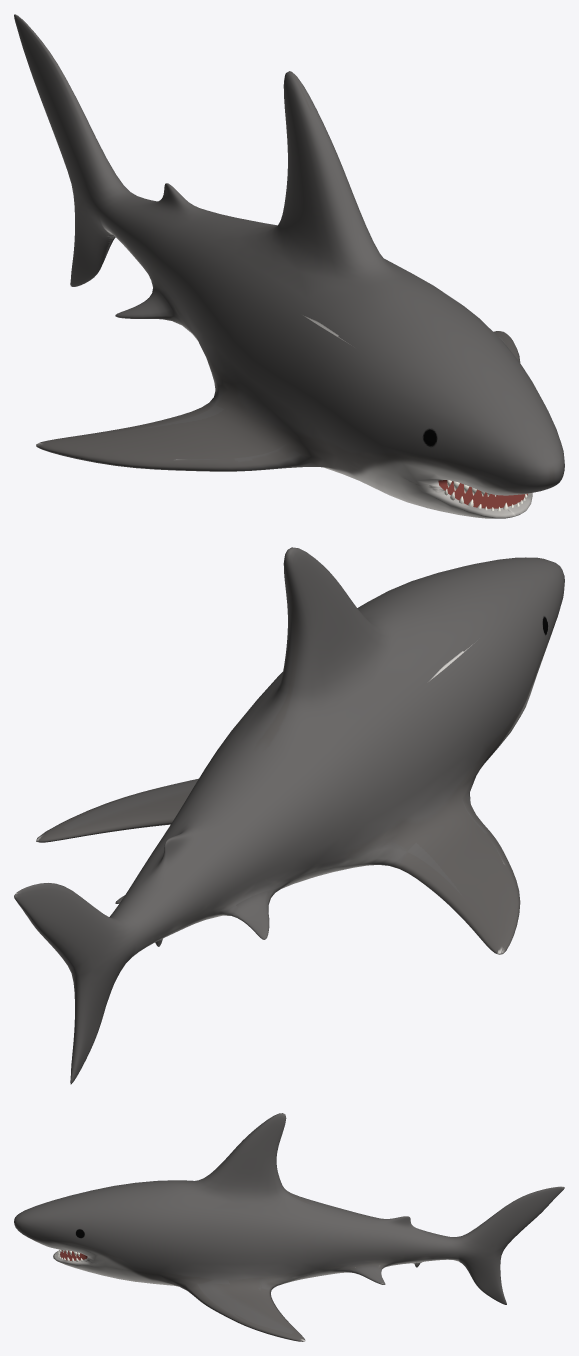
Rendered from predator_shayu.glb.
The picture shows the model from 3 angles, top to bottom: view 1: azimuth 30°, elevation 25°; view 2: azimuth 150°, elevation 25°; view 3: azimuth 270°, elevation 25°; orthographic projection. The views are drawn at different scales.
Visible parts, largest first — view 1: predator_shayu; view 2: predator_shayu; view 3: predator_shayu.
Part boxes in pixels (x1=…): predator_shayu: x1=14, y1=14, x2=564, y2=518; predator_shayu: x1=14, y1=547, x2=564, y2=1084; predator_shayu: x1=14, y1=1113, x2=564, y2=1341.
Size of the model in its own units: 2.64 by 2.03 by 5.28.
3 materials, 1 textured.
